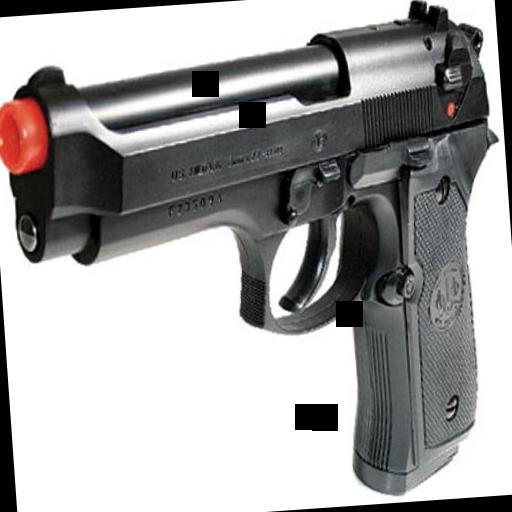Handgun: (0, 0, 511, 509)
